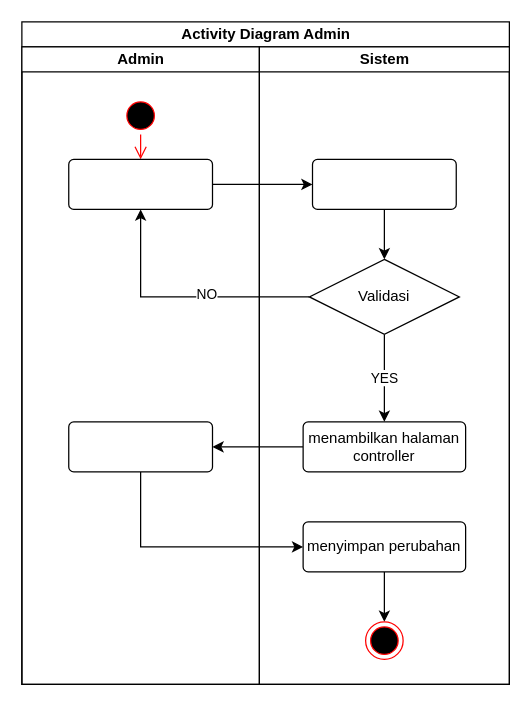
The diagram is 531 pixels wide and 706 high, and some of its shapes have lost their labels. The centre of each missing label's shape, as x and y in pixels:
"masukan usename dan password" belongs at (x=140, y=183).
"melakukan operasi CRUD" belongs at (x=140, y=446).
"menampilkan halaman login" belongs at (x=383, y=183).
